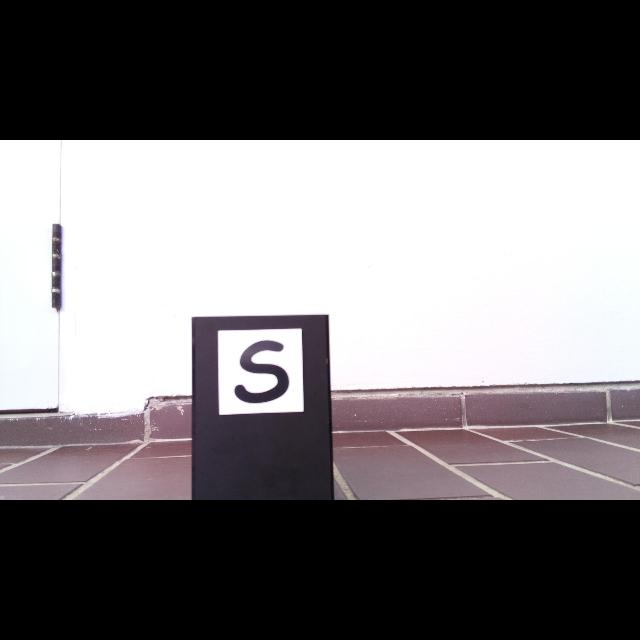S: (234, 341, 289, 404)
